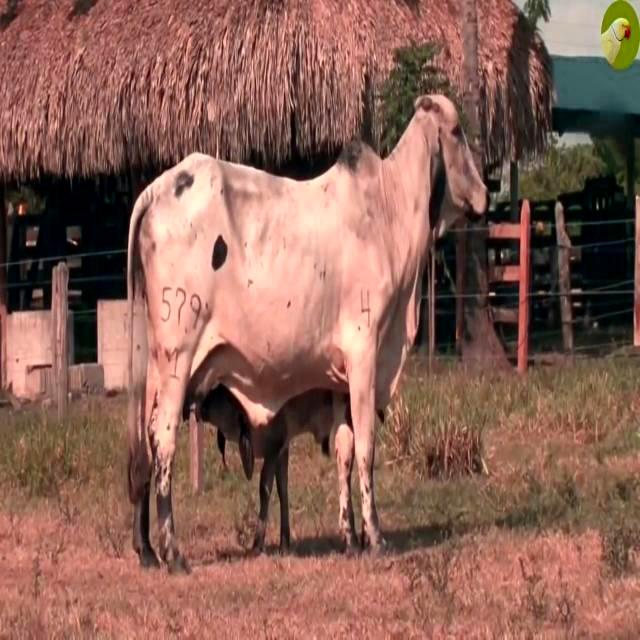COW: (128, 95, 486, 571)
